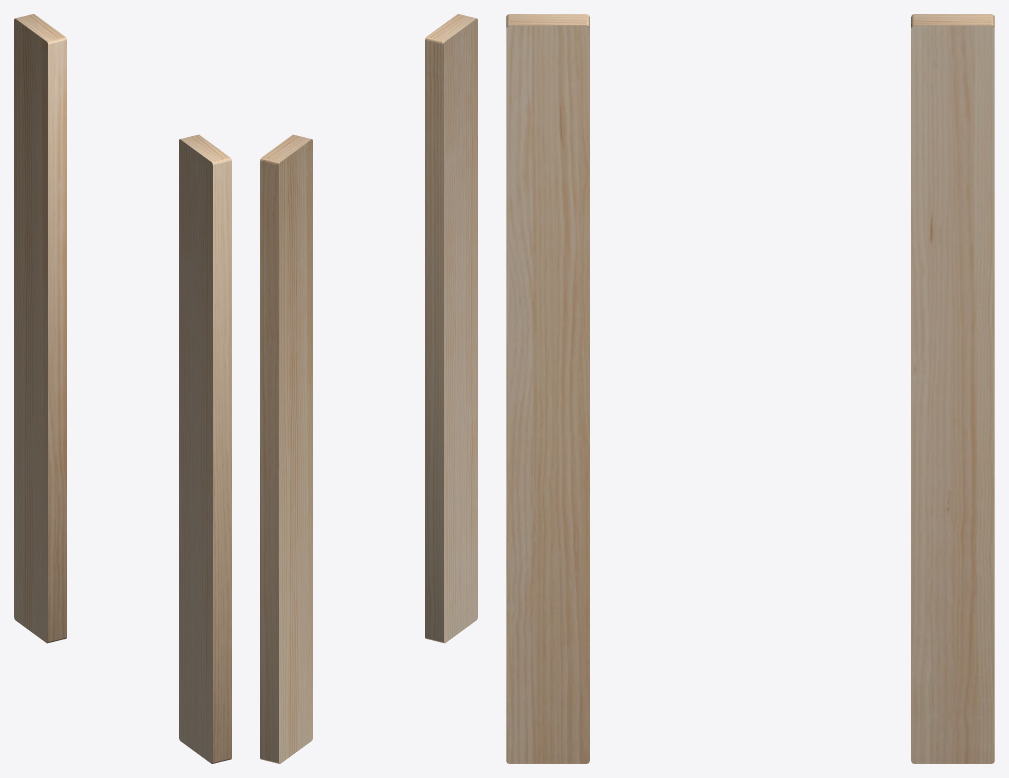
3 views of the same model, side by side, from view 1: azimuth 30°, elevation 25°; view 2: azimuth 150°, elevation 25°; view 3: azimuth 270°, elevation 25° (orthographic). The views are drawn at different scales.
Parts seen in each view (by area): view 1: TransformZUpToYUp.061; view 2: TransformZUpToYUp.061; view 3: TransformZUpToYUp.061.
Part boxes in pixels (bbox=[...]): TransformZUpToYUp.061: bbox=[14, 14, 231, 763]; TransformZUpToYUp.061: bbox=[260, 14, 477, 763]; TransformZUpToYUp.061: bbox=[506, 14, 994, 763].
Bounding box in the file's own units: 16 × 487 × 292.
Materials: 1 (1 with a texture image).
